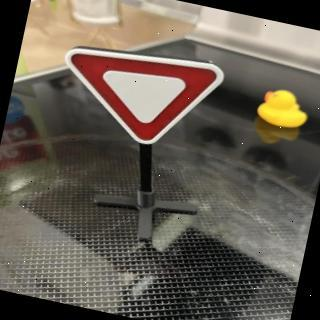duck_regular: (253, 85, 314, 135)
sign_yield: (51, 32, 228, 159)
